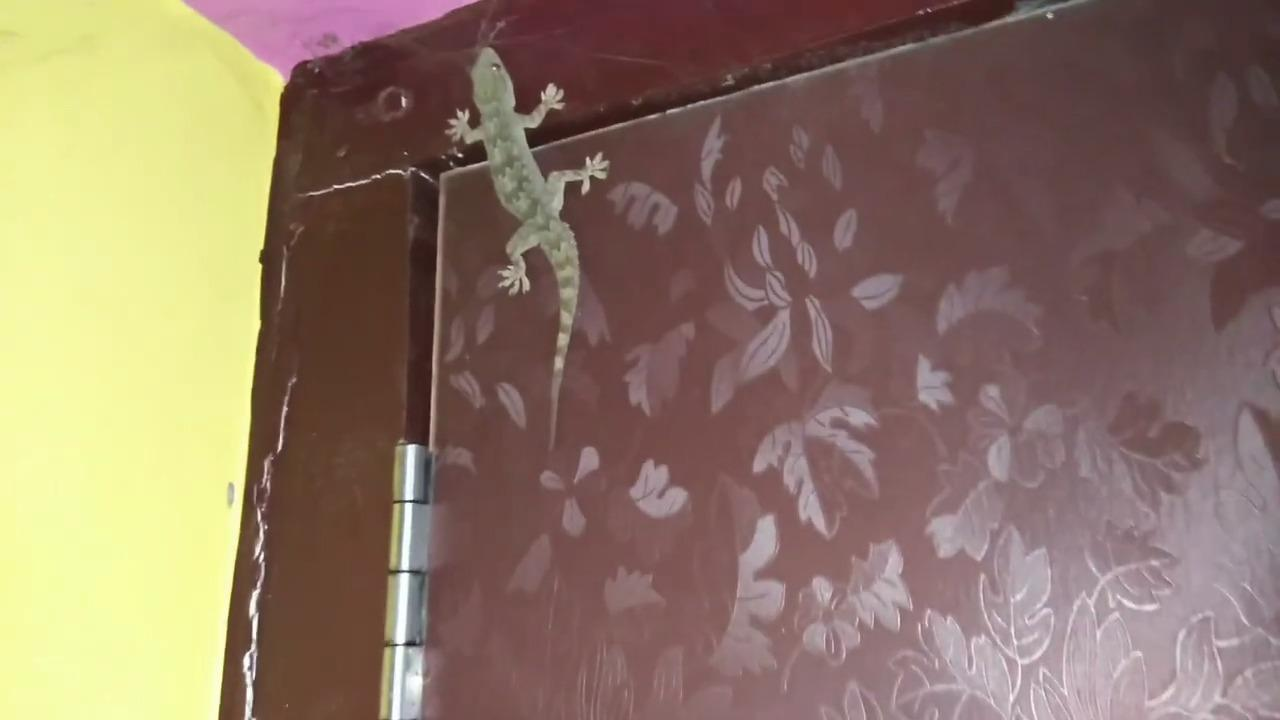lizard: (435, 39, 662, 448)
